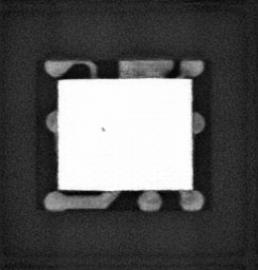DIE_INK: (99, 125, 107, 132)
